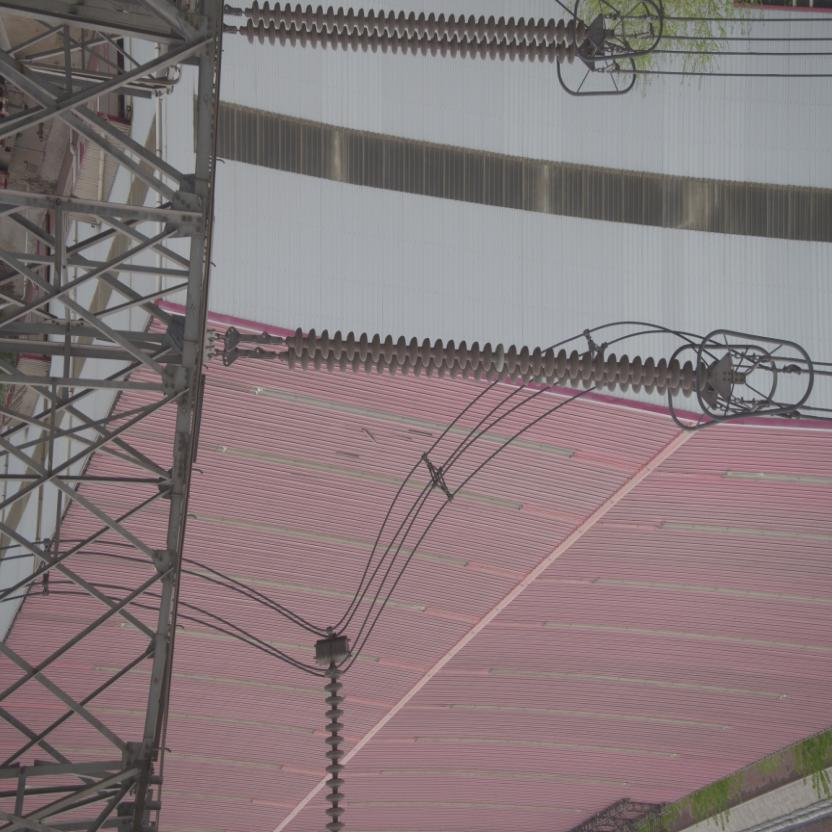insulator: (245, 324, 721, 406), (230, 3, 592, 68)
